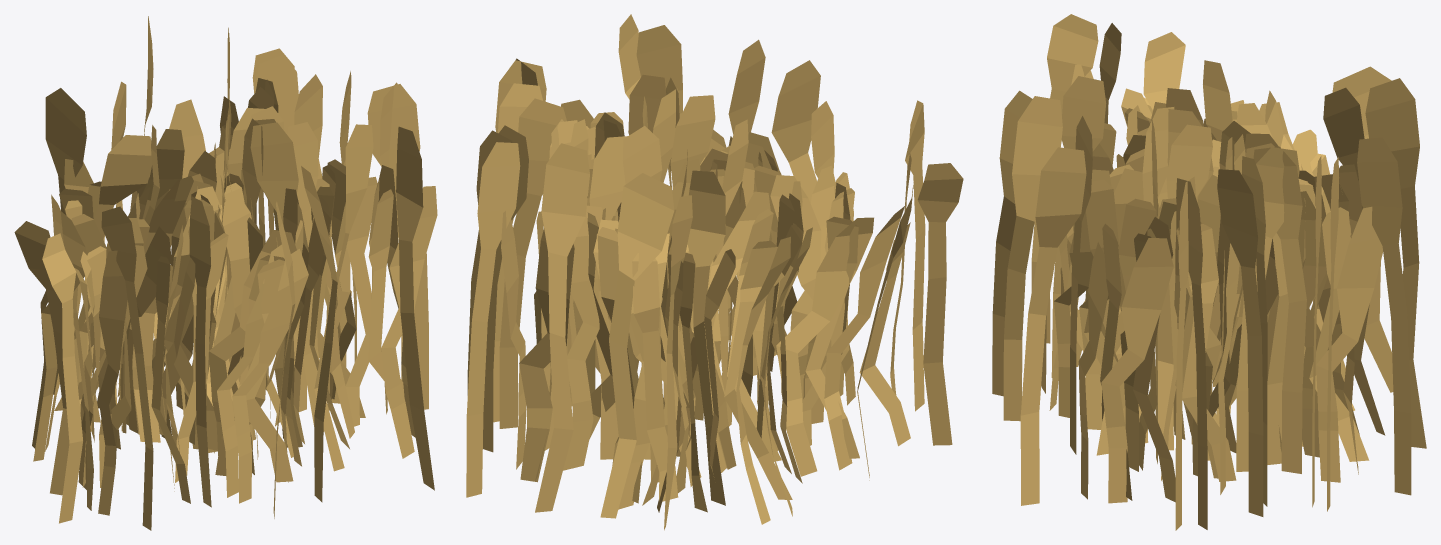
File: Wheat_Crops.fbx
3 renders of one model, left to right at view 1: azimuth 30°, elevation 25°; view 2: azimuth 150°, elevation 25°; view 3: azimuth 270°, elevation 25°, orthographic. The views are drawn at different scales.
Parts seen in each view (by area): view 1: Plane.002; view 2: Plane.002; view 3: Plane.002.
Boxes of the visible parts, x1,y1,x2,y2 form: Plane.002: (14, 16, 437, 530); Plane.002: (466, 14, 963, 530); Plane.002: (992, 14, 1426, 530).
Bounding box in the file's own units: 363 × 303 × 315.
